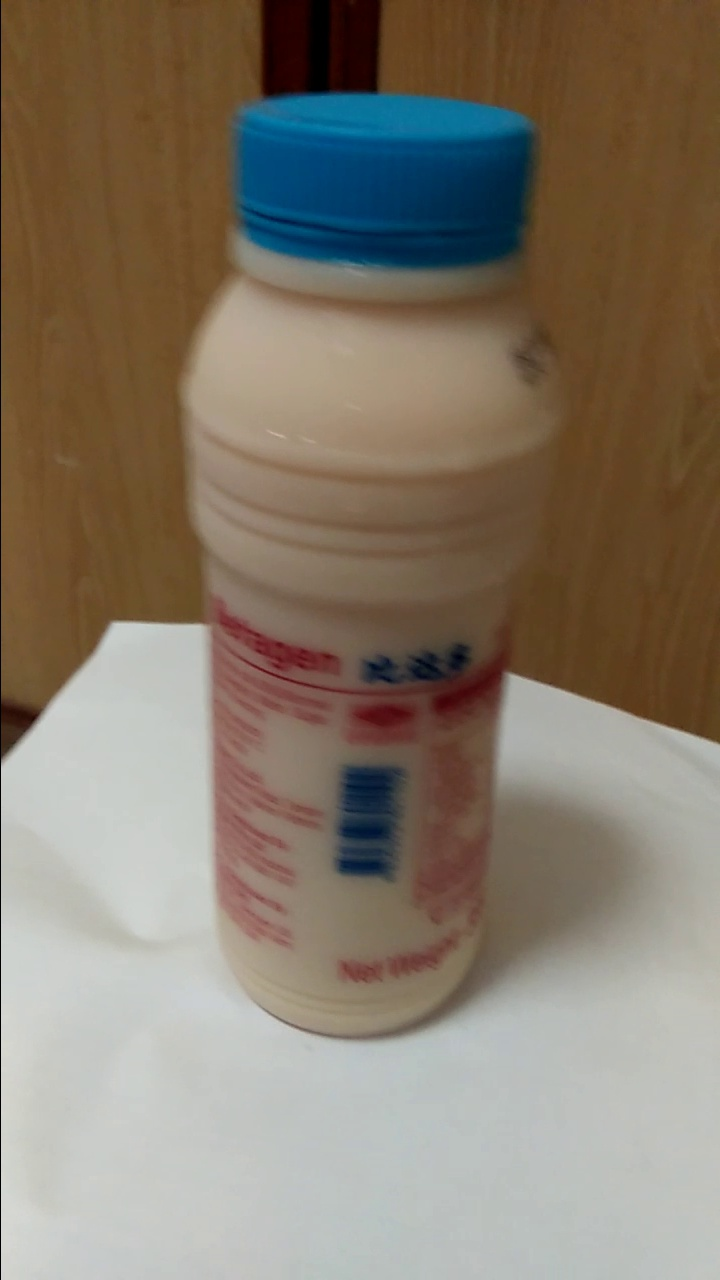mlik2: (196, 96, 560, 1035)
